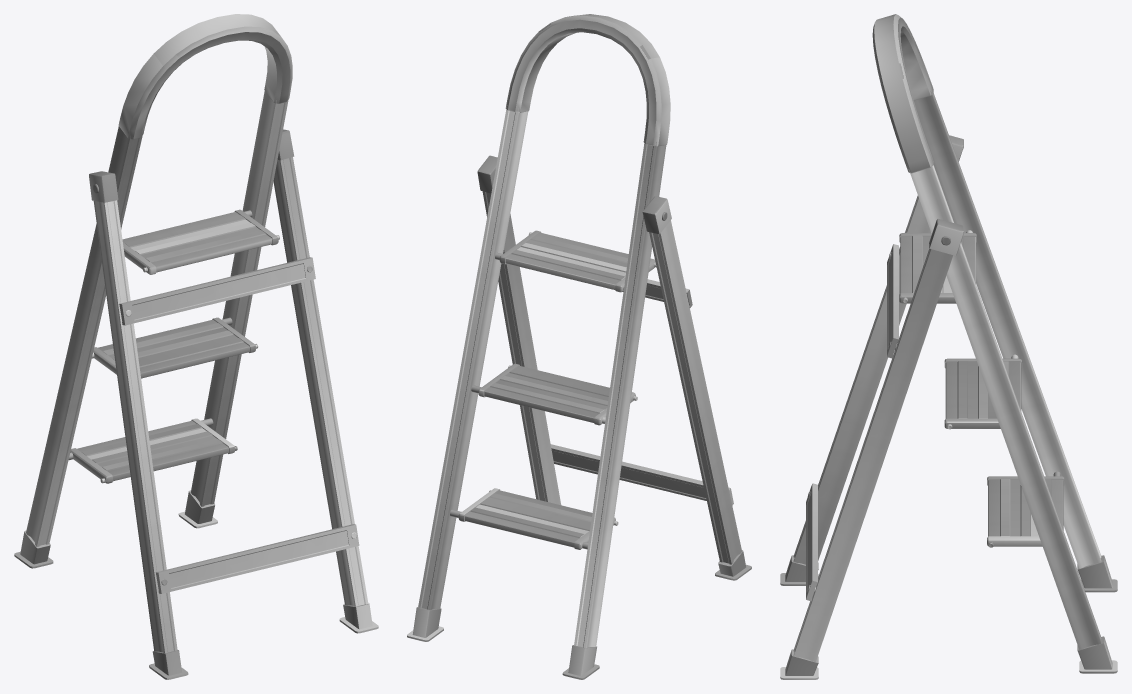
The model's file is Escakera.fbx.
3 renders of one model, left to right at view 1: azimuth 30°, elevation 25°; view 2: azimuth 150°, elevation 25°; view 3: azimuth 270°, elevation 25°, orthographic. The views are drawn at different scales.
Visible parts, largest first — view 1: Escakera; view 2: Escakera; view 3: Escakera.
Boxes of the visible parts, x1,y1,x2,y2 form: Escakera: (14, 14, 378, 679); Escakera: (407, 14, 751, 679); Escakera: (780, 14, 1117, 679).
Bounding box in the file's own units: 2.04 × 5.45 × 2.76.
1 material, 1 textured.
